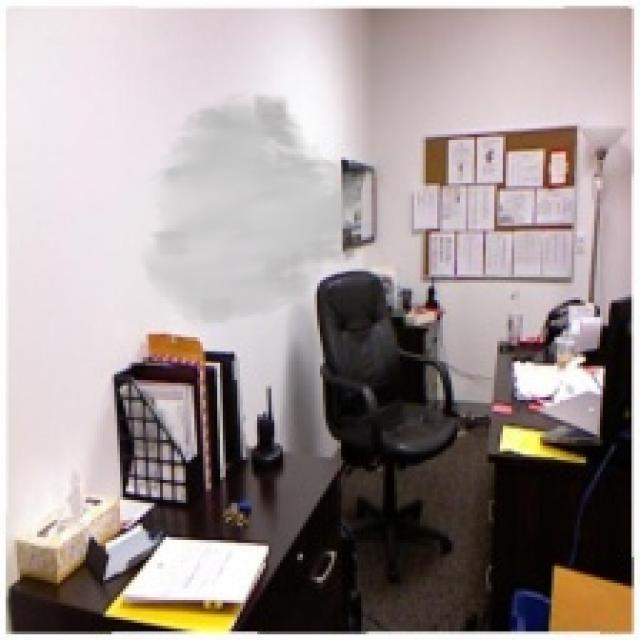Smoke: (137, 89, 383, 328)
